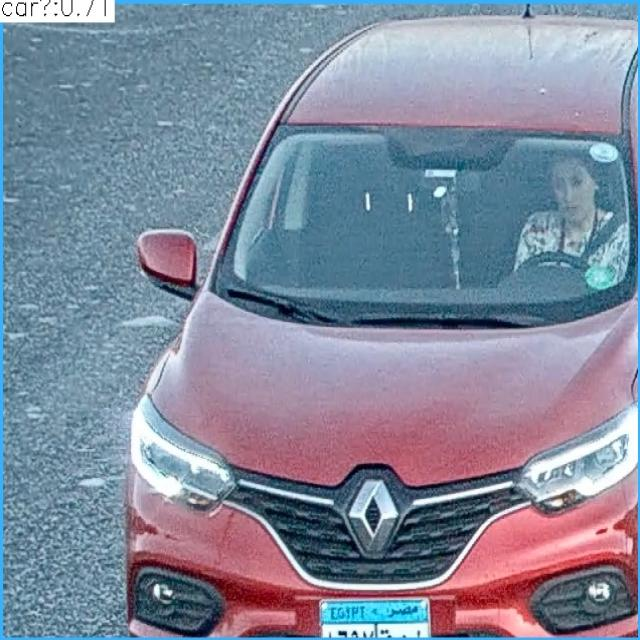windshield: (216, 133, 628, 320)
